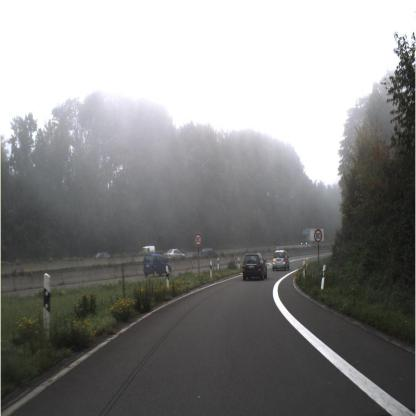prohibitory: (312, 226, 325, 247), (192, 230, 204, 250)
